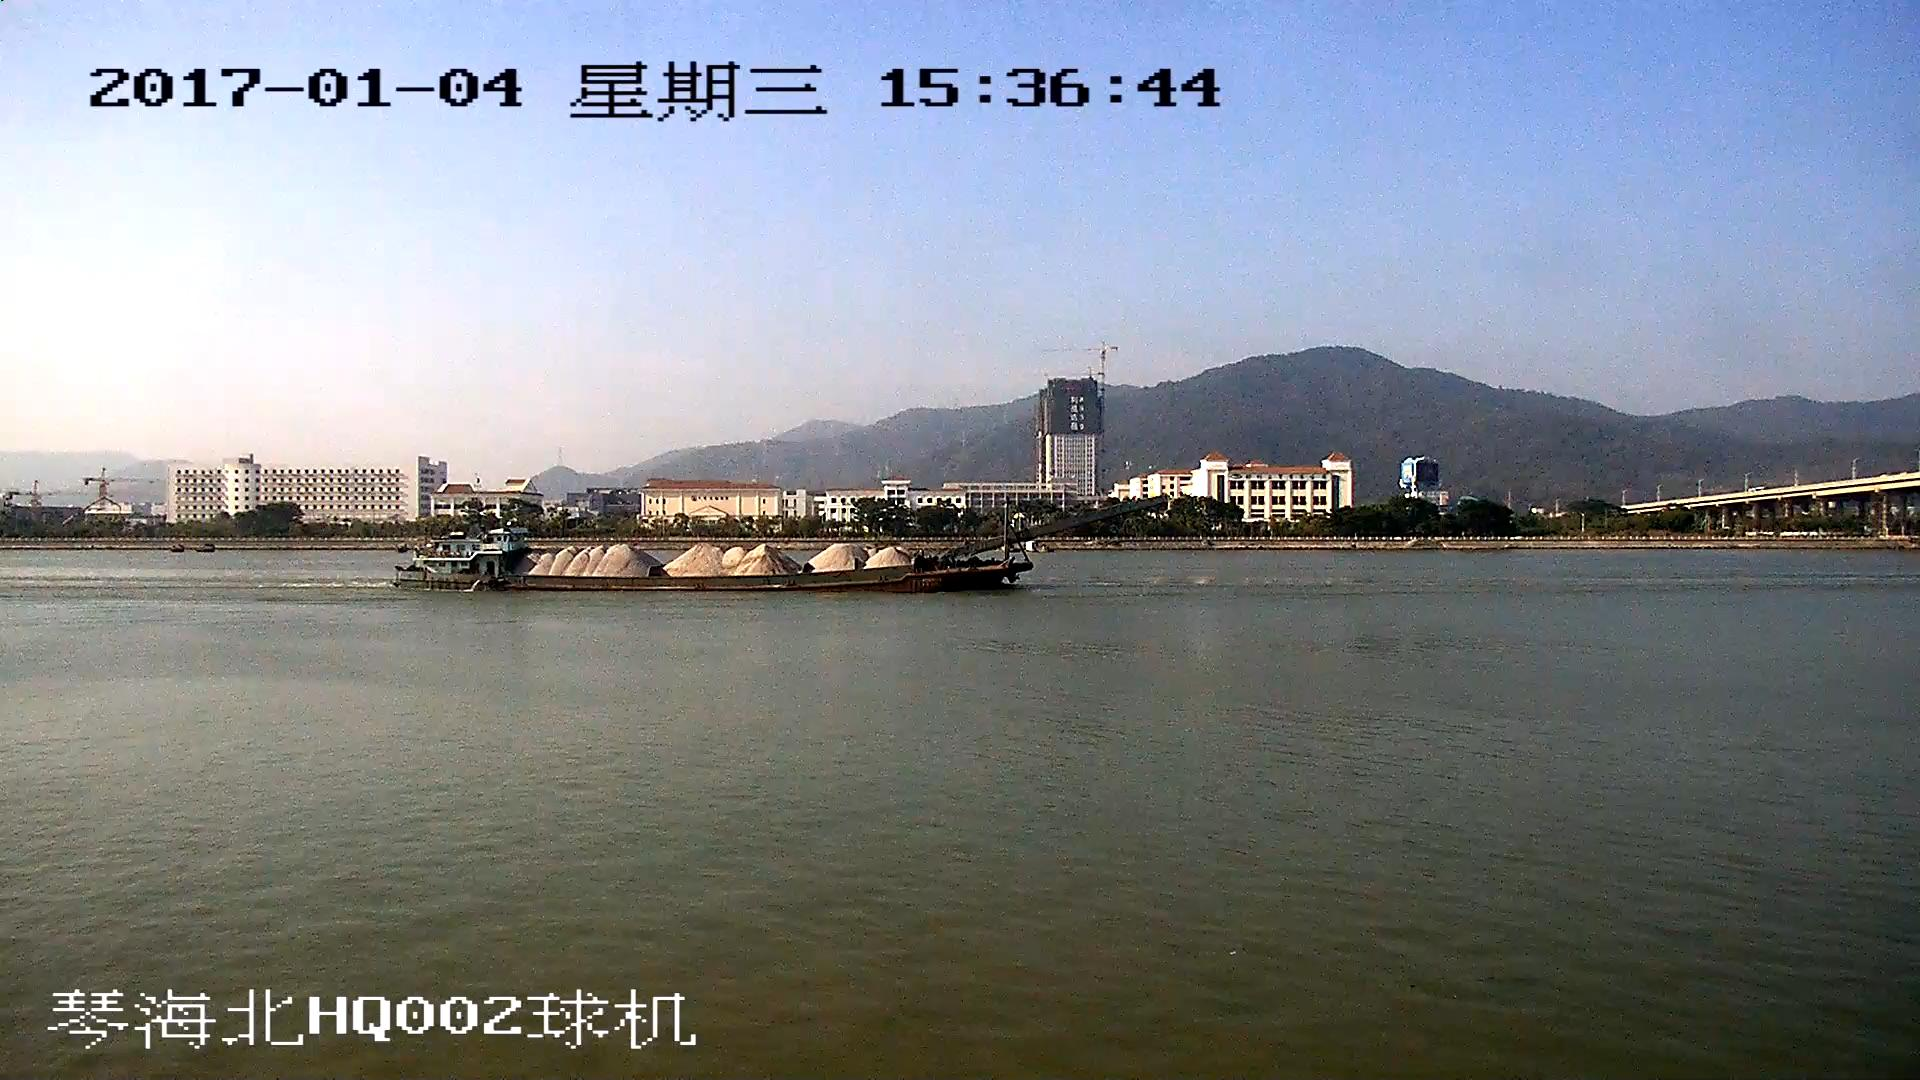ore carrier: (393, 496, 1163, 595)
